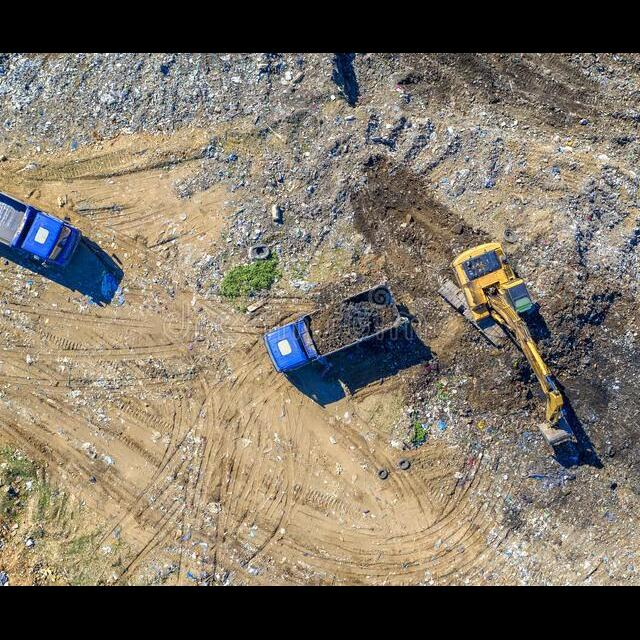Excavator: (438, 244, 594, 466)
dump truck: (260, 278, 408, 379), (0, 167, 86, 284)
